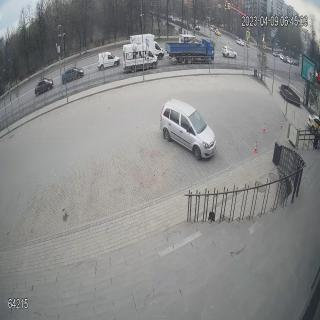Car: (160, 97, 216, 160), (278, 84, 300, 107), (98, 51, 120, 70), (61, 68, 84, 84), (34, 78, 54, 96), (307, 112, 320, 132), (222, 46, 237, 59), (236, 39, 244, 46), (214, 29, 221, 36), (209, 25, 215, 31), (195, 25, 200, 31), (273, 51, 278, 57)
